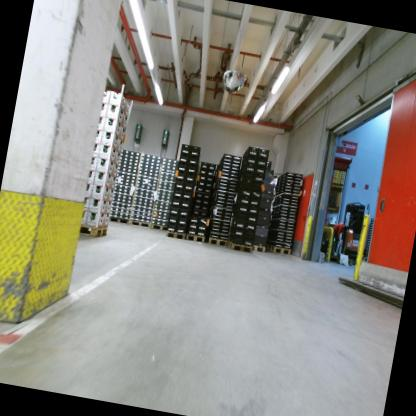pallet: (75, 221, 108, 241), (225, 237, 254, 255), (325, 254, 352, 268), (266, 243, 291, 256), (206, 235, 228, 249), (184, 231, 206, 244), (108, 216, 130, 229), (165, 229, 187, 241), (128, 220, 151, 229), (251, 243, 267, 254), (150, 223, 168, 232), (331, 181, 339, 186), (339, 182, 344, 188)
pallet_truck: (332, 195, 375, 262)
